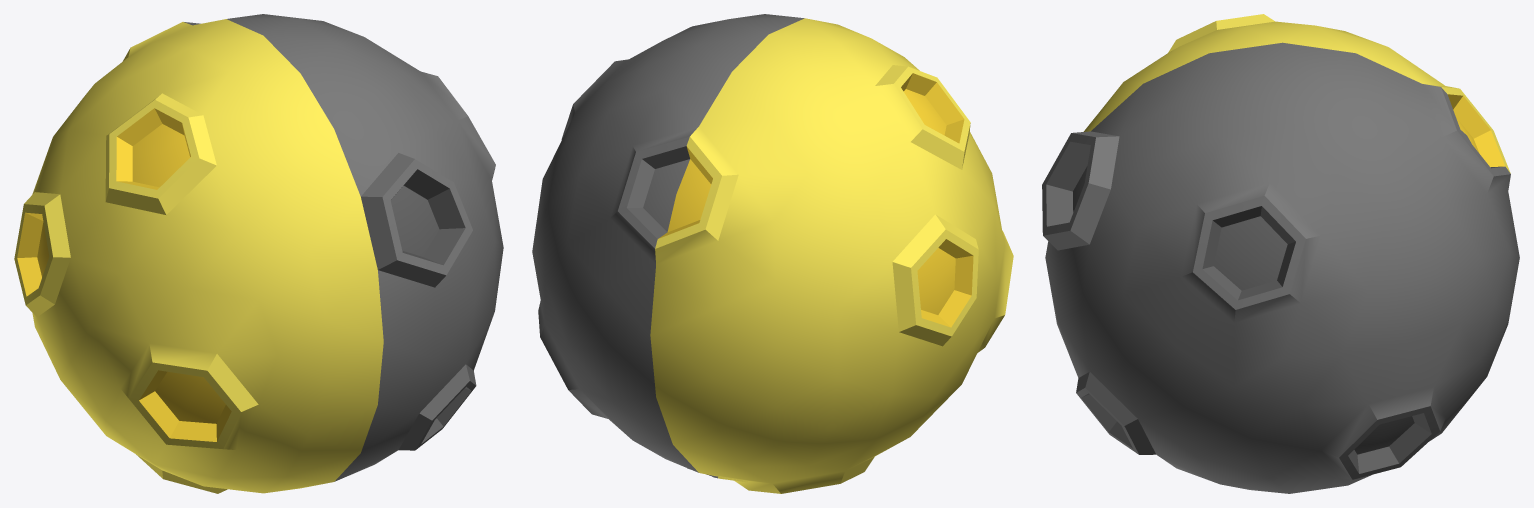
The model's file is last_quarter_moon.fbx.
3 views of the same model, side by side, from view 1: azimuth 30°, elevation 25°; view 2: azimuth 150°, elevation 25°; view 3: azimuth 270°, elevation 25° (orthographic).
Parts seen in each view (by area): view 1: Icosphere.006; view 2: Icosphere.006; view 3: Icosphere.006.
Part boxes in pixels (x1,y1,x2,y2): Icosphere.006: (14, 14, 503, 493); Icosphere.006: (532, 14, 1013, 493); Icosphere.006: (1042, 14, 1519, 493).
Bounding box in the file's own units: 204 × 204 × 201.
Materials: 1 (1 with a texture image).
